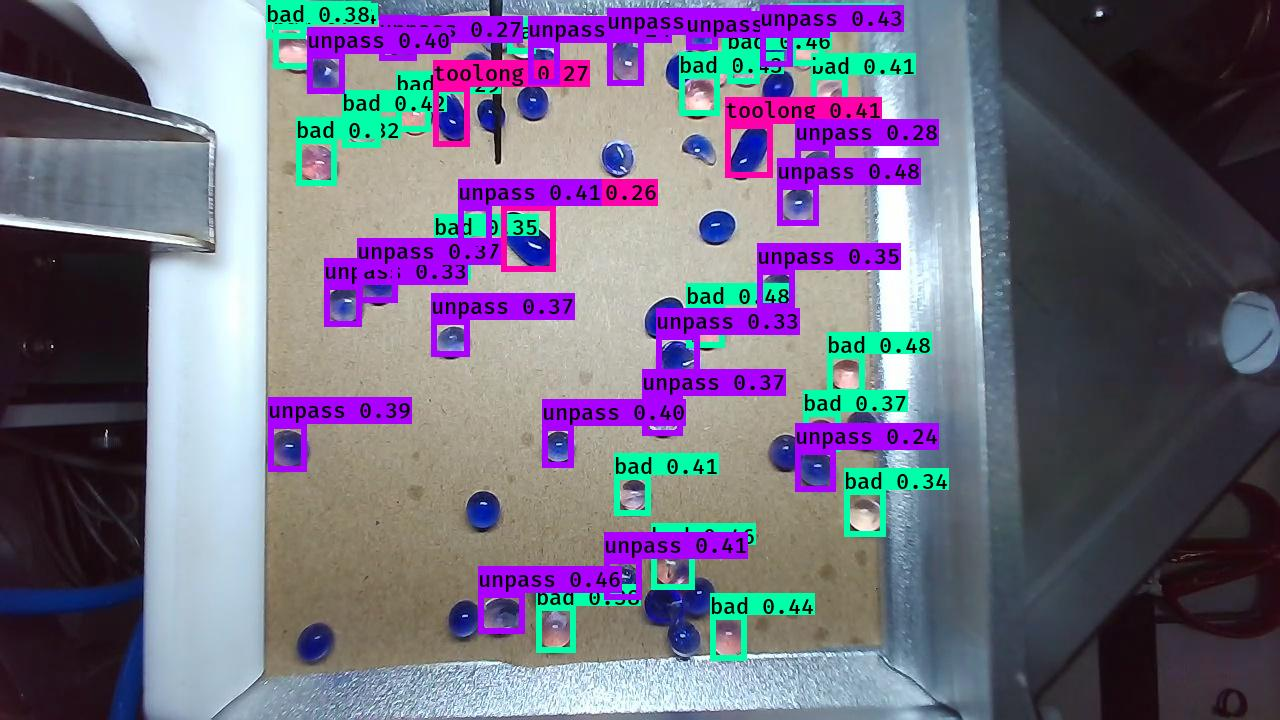bad: (272, 29, 321, 73), (649, 545, 695, 590), (295, 143, 342, 187), (685, 306, 727, 348), (706, 623, 747, 664), (845, 496, 886, 536), (679, 76, 717, 118), (504, 18, 541, 61), (790, 24, 824, 70), (396, 98, 432, 139), (538, 611, 574, 652), (828, 359, 867, 394), (731, 50, 766, 88), (724, 16, 758, 55), (813, 79, 847, 118), (267, 3, 304, 38), (614, 478, 651, 513), (700, 50, 731, 91), (345, 112, 381, 146), (804, 419, 838, 452)
defact: (680, 134, 717, 169)
pass: (645, 296, 686, 338), (296, 622, 336, 665), (530, 567, 569, 611), (643, 587, 686, 626), (847, 410, 882, 456), (465, 489, 502, 532), (700, 212, 741, 250), (446, 597, 481, 641), (761, 69, 796, 110), (769, 433, 804, 473), (667, 49, 700, 91), (667, 623, 703, 660), (686, 574, 715, 619), (517, 85, 550, 123)
toolong: (496, 210, 557, 272), (729, 125, 770, 183), (430, 87, 470, 145)
unpass: (267, 428, 313, 473), (657, 339, 702, 383), (481, 591, 522, 637), (608, 39, 646, 86), (359, 266, 398, 306), (325, 286, 363, 327), (457, 206, 493, 248), (381, 20, 419, 59), (797, 147, 835, 186), (758, 276, 797, 314), (308, 55, 345, 95), (459, 51, 496, 91), (799, 450, 836, 490), (781, 188, 818, 227), (436, 238, 472, 278), (645, 400, 681, 437), (434, 323, 470, 360), (541, 430, 577, 466), (607, 562, 641, 599), (603, 139, 635, 178), (686, 15, 718, 52), (758, 33, 790, 69), (525, 50, 559, 82)
